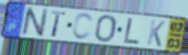C: (70, 11, 95, 41)
K: (145, 18, 167, 48)
L: (123, 17, 142, 46)
N: (20, 6, 50, 38)
O: (94, 14, 118, 44)
T: (50, 10, 67, 38)
